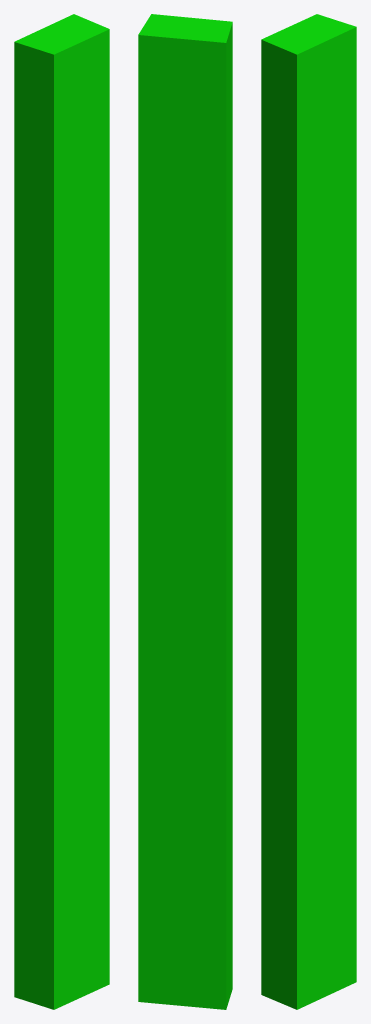
3 views of the same model, side by side, from view 1: azimuth 90°, elevation 25°; view 2: azimuth 210°, elevation 25°; view 3: azimuth 270°, elevation 25° (orthographic).
Parts seen in each view (by area): view 1: Plane.035; view 2: Plane.035; view 3: Plane.035.
Part boxes in pixels (x1=…): Plane.035: x1=14, y1=14, x2=109, y2=1009; Plane.035: x1=138, y1=14, x2=232, y2=1009; Plane.035: x1=261, y1=14, x2=356, y2=1009.
Size of the model in its own units: 1075 by 11751 by 1066.
